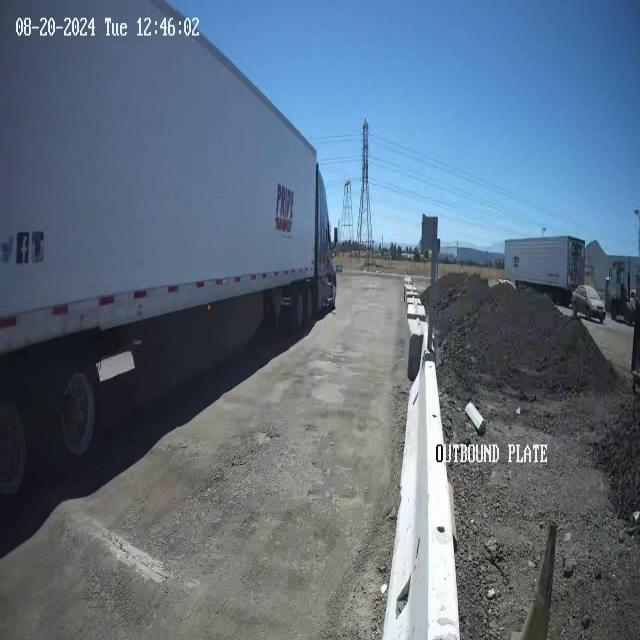CONTAINER: (1, 0, 319, 360)
